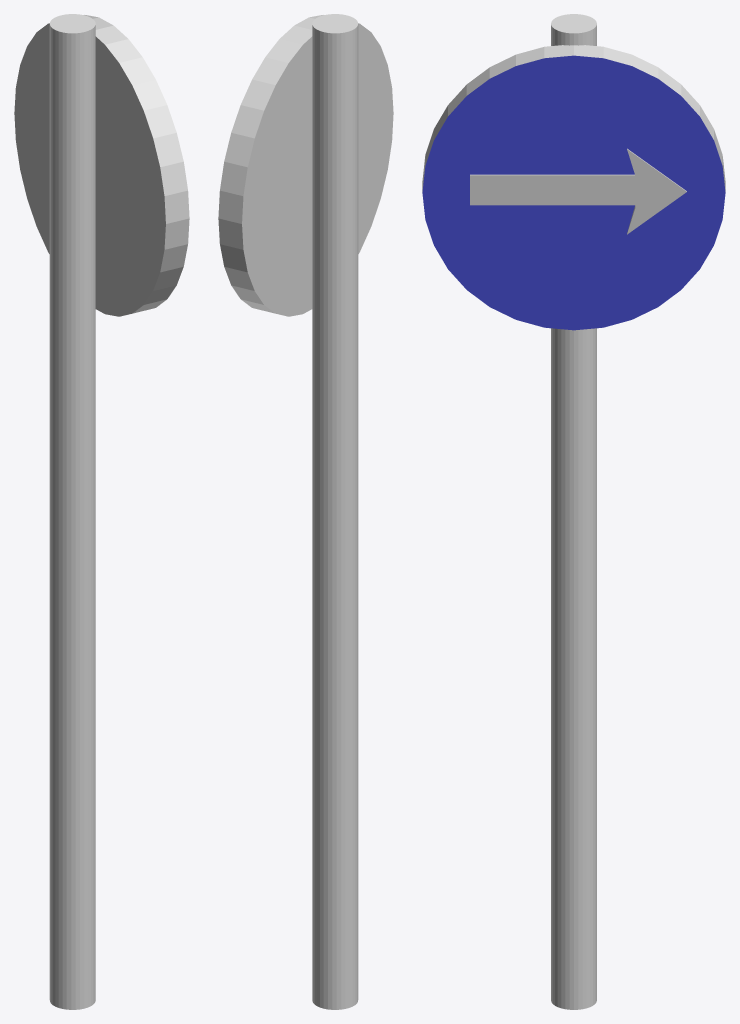
Rendered from SignTurnRight.fbx.
3 views of the same model, side by side, from view 1: azimuth 30°, elevation 25°; view 2: azimuth 150°, elevation 25°; view 3: azimuth 270°, elevation 25° (orthographic).
Parts seen in each view (by area): view 1: Cylinder.003, SignCircle.003; view 2: Cylinder.003, SignCircle.003; view 3: SignCircle.003, Cylinder.003, Cube.
Boxes of the visible parts, left/top/right/bottom form: Cylinder.003: left=49, top=14, right=95, bottom=1009; SignCircle.003: left=14, top=15, right=189, bottom=316; Cylinder.003: left=312, top=14, right=358, bottom=1009; SignCircle.003: left=218, top=15, right=393, bottom=316; SignCircle.003: left=422, top=45, right=725, bottom=330; Cylinder.003: left=551, top=14, right=596, bottom=1009; Cube: left=470, top=148, right=686, bottom=234.
Size of the model in its own units: 111 by 1671 by 470.
